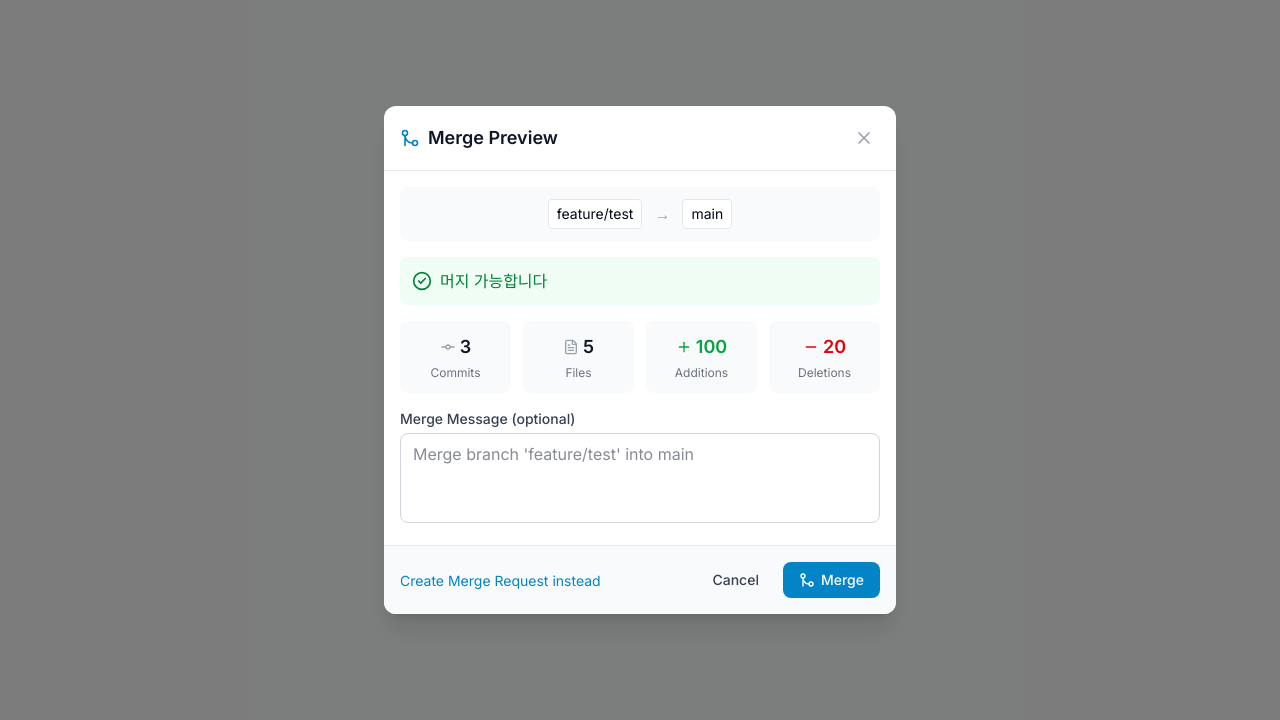
MergePreviewPanel › disables Create MR button when title is empty
Click the button "Create Merge Request instead".
click(500, 581)  # box [400,571,601,591]
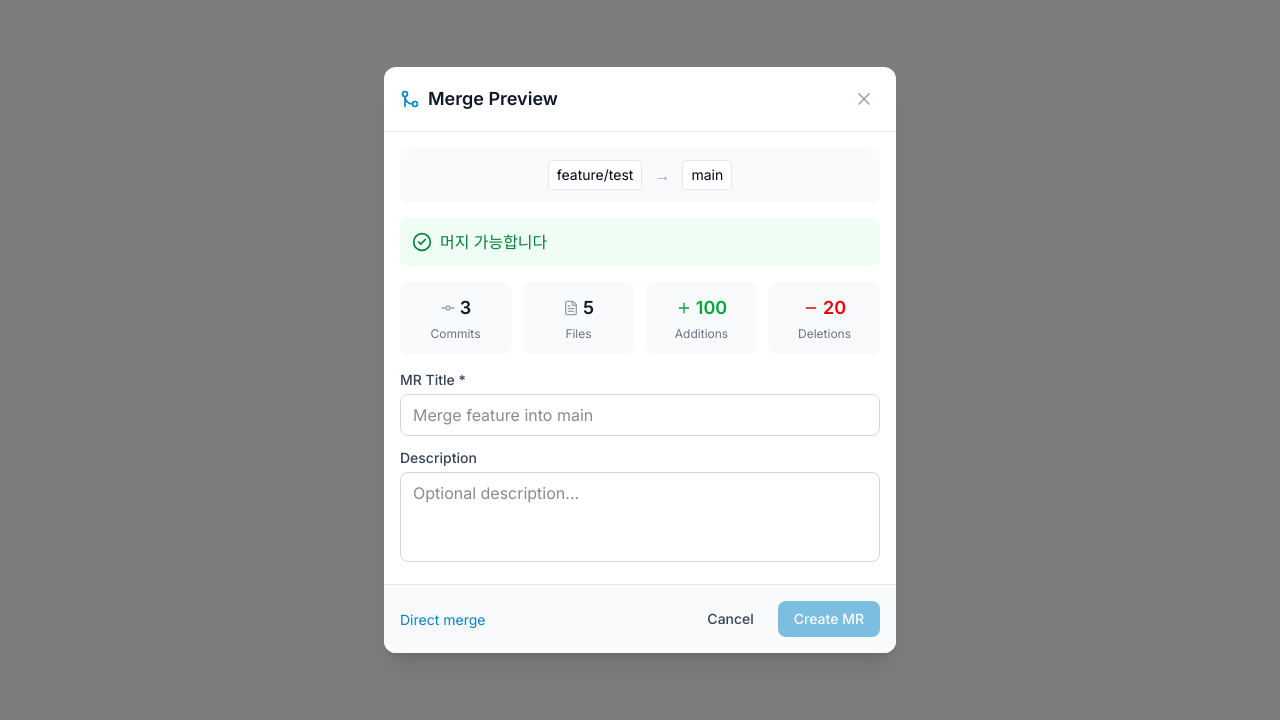
Now the button "Create MR" is disabled, box [778,601,880,637]
